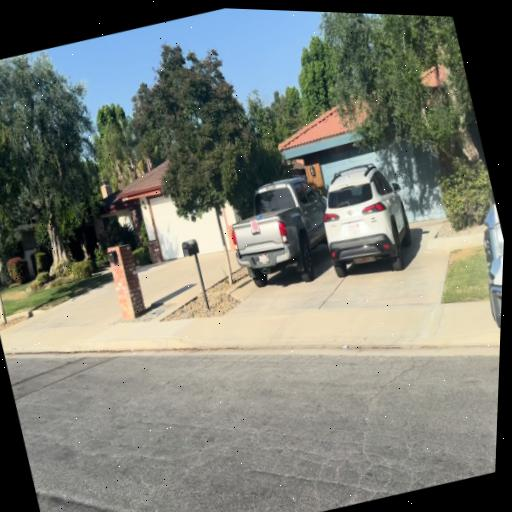bullseye: (250, 219, 259, 232)
